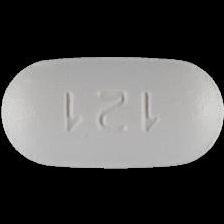0615-7769: (0, 0, 224, 224)
